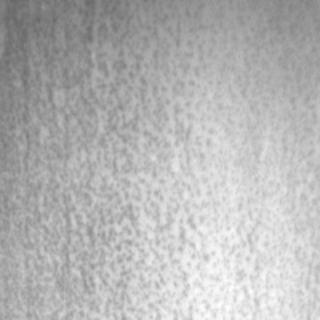pitted_surface: (0, 0, 314, 314)
